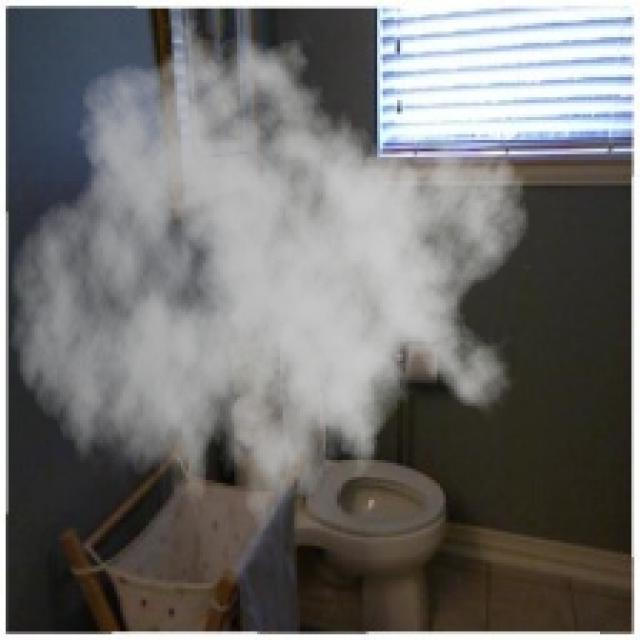Smoke: (9, 5, 532, 558)
